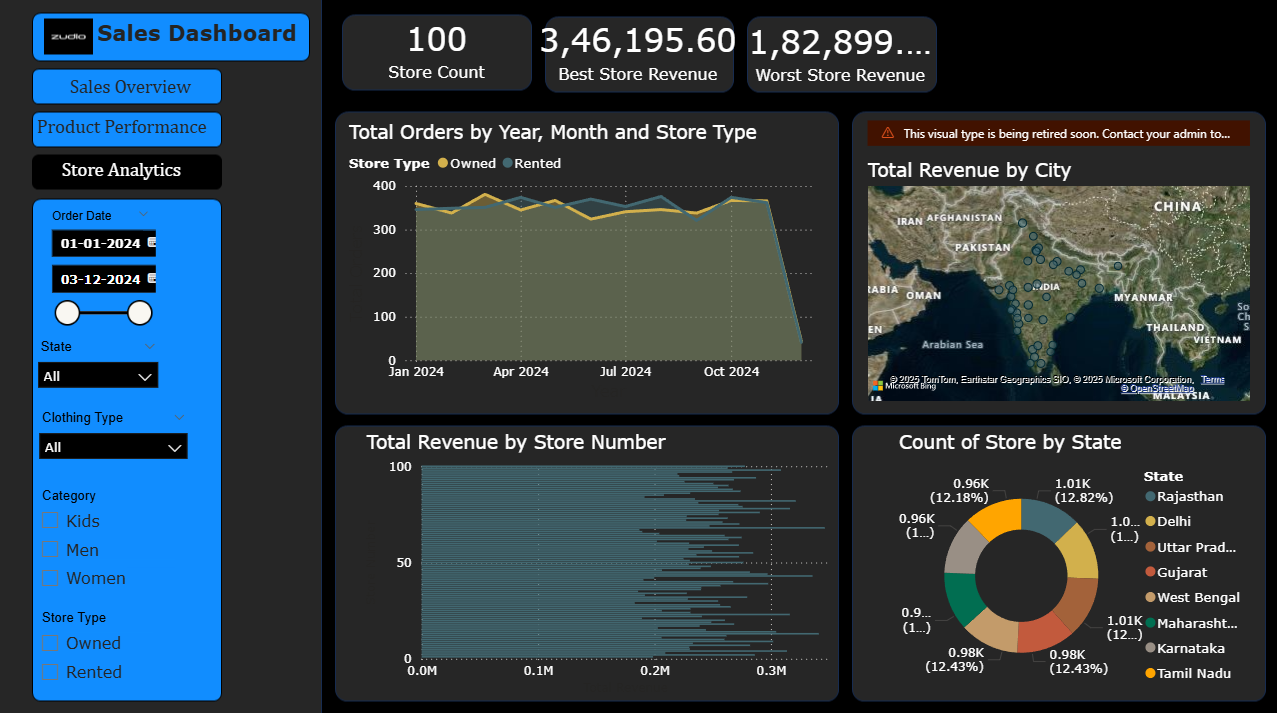

The dashboard page shown, as its layout file describes it:
{"tool":"powerbi","page":{"name":"Page 3","canvas":[1280,720],"ordinal":2},"visuals":[{"type":"card","fields":{"Values":["Zudio_sales_data.Store Count"]},"box":[341.9,10.5,193,79.1],"z":0},{"type":"card","fields":{"Values":["Zudio_sales_data.Best Store Revenue"]},"box":[534.9,14,208.1,75],"z":1000},{"type":"card","fields":{"Values":["Zudio_sales_data.Worst Store Revenue"]},"box":[743,15.1,197.7,75.6],"z":2000},{"type":"areaChart","fields":{"Category":["Zudio_sales_data.Order Date.Variation.Date Hierarchy.Year","Zudio_sales_data.Order Date.Variation.Date Hierarchy.Month"],"Series":["Zudio_sales_data.Store Type"],"Y":["Zudio_sales_data.Total Orders"]},"box":[344.6,121.6,490.5,285.1],"z":3000},{"type":"map","fields":{"Category":["Zudio_sales_data.City"],"Size":["Zudio_sales_data.Total Revenue"]},"box":[863.5,121.6,391.9,285.1],"z":4000},{"type":"textbox","box":[29.1,70.9,189.5,39.5],"z":5000},{"type":"textbox","box":[29.3,111,204.9,43.9],"z":6000},{"type":"textbox","box":[53.5,154.7,140.7,38.4],"z":7000},{"type":"textbox","box":[9.3,10.5,301.2,48.8],"z":8000},{"type":"slicer","fields":{"Values":["Zudio_sales_data.State"]},"box":[29.3,334.7,140,72],"z":9000},{"type":"slicer","fields":{"Values":["Zudio_sales_data.Store Type"]},"box":[30.5,606.1,129.3,93.9],"z":10000},{"type":"slicer","fields":{"Values":["Zudio_sales_data.Category"]},"box":[30.5,484.1,151.2,128],"z":11000},{"type":"slicer","fields":{"Values":["Zudio_sales_data.Order Date"]},"box":[40.2,204.9,122,129.3],"z":12000},{"type":"slicer","fields":{"Values":["Zudio_sales_data.Clothing Type"]},"box":[30.5,406.1,168.3,64.6],"z":13000},{"type":"clusteredBarChart","fields":{"Category":["Zudio_sales_data.Store Number"],"Y":["Zudio_sales_data.Total Revenue"]},"box":[362.2,431.1,487.8,268.9],"z":14000},{"type":"donutChart","fields":{"Category":["Zudio_sales_data.State"],"Y":["CountNonNull(Zudio_sales_data.Store)"]},"box":[895,431,361,269],"z":15000},{"type":"actionButton","box":[40.3,69.4,166.7,38.9],"z":16000},{"type":"actionButton","box":[44.4,111.1,166.7,38.9],"z":17000}]}

Visuals, with their boxes on the page's 1280x720 design canvas (x1, y1, x2, y2). These are canvas units, not pixel positions in the 1277x713 screenshot, which may show the page scaled, cropped or inside an application window:
card - Zudio_sales_data.Store Count: {"x1": 342, "y1": 10, "x2": 535, "y2": 90}
card - Zudio_sales_data.Best Store Revenue: {"x1": 535, "y1": 14, "x2": 743, "y2": 89}
card - Zudio_sales_data.Worst Store Revenue: {"x1": 743, "y1": 15, "x2": 941, "y2": 91}
areaChart - Zudio_sales_data.Order Date.Variation.Date Hierarchy.Year x Zudio_sales_data.Order Date.Variation.Date Hierarchy.Month: {"x1": 345, "y1": 122, "x2": 835, "y2": 407}
map - Zudio_sales_data.City x Zudio_sales_data.Total Revenue: {"x1": 864, "y1": 122, "x2": 1255, "y2": 407}
textbox: {"x1": 29, "y1": 71, "x2": 219, "y2": 110}
textbox: {"x1": 29, "y1": 111, "x2": 234, "y2": 155}
textbox: {"x1": 54, "y1": 155, "x2": 194, "y2": 193}
textbox: {"x1": 9, "y1": 10, "x2": 310, "y2": 59}
slicer - Zudio_sales_data.State: {"x1": 29, "y1": 335, "x2": 169, "y2": 407}
slicer - Zudio_sales_data.Store Type: {"x1": 30, "y1": 606, "x2": 160, "y2": 700}
slicer - Zudio_sales_data.Category: {"x1": 30, "y1": 484, "x2": 182, "y2": 612}
slicer - Zudio_sales_data.Order Date: {"x1": 40, "y1": 205, "x2": 162, "y2": 334}
slicer - Zudio_sales_data.Clothing Type: {"x1": 30, "y1": 406, "x2": 199, "y2": 471}
clusteredBarChart - Zudio_sales_data.Store Number x Zudio_sales_data.Total Revenue: {"x1": 362, "y1": 431, "x2": 850, "y2": 700}
donutChart - Zudio_sales_data.State x CountNonNull(Zudio_sales_data.Store): {"x1": 895, "y1": 431, "x2": 1256, "y2": 700}
actionButton: {"x1": 40, "y1": 69, "x2": 207, "y2": 108}
actionButton: {"x1": 44, "y1": 111, "x2": 211, "y2": 150}
